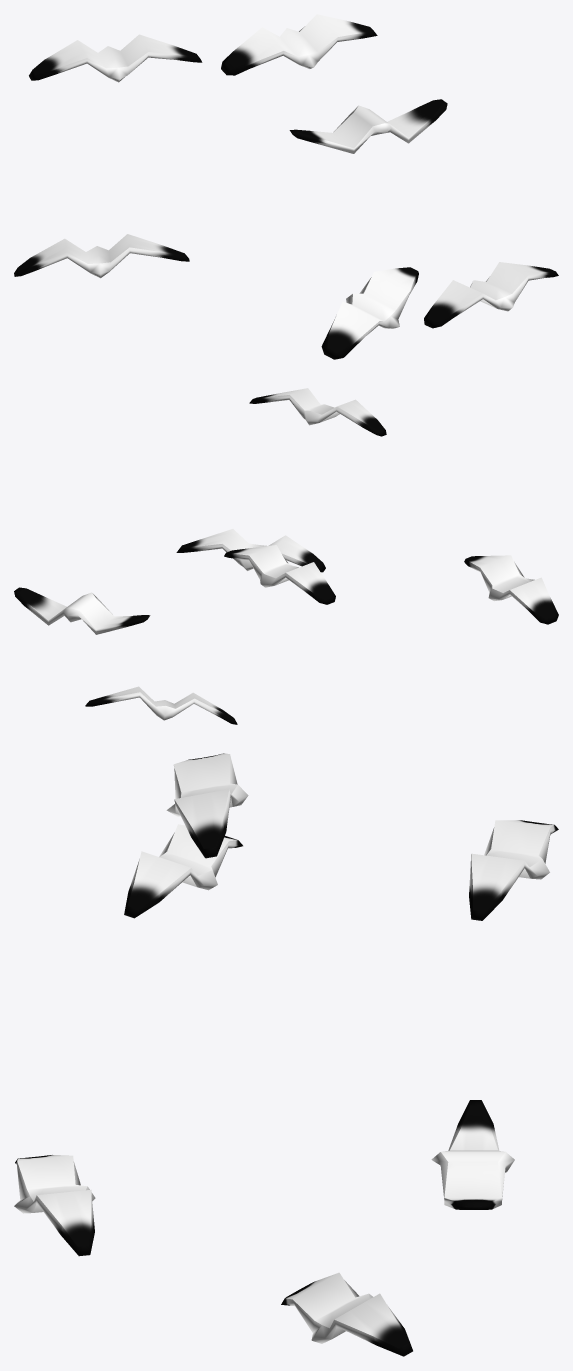
File: bird_flock_2.gltf
3 renders of one model, top to bottom at view 1: azimuth 30°, elevation 25°; view 2: azimuth 150°, elevation 25°; view 3: azimuth 270°, elevation 25°, orthographic. The views are drawn at different scales.
Parts seen in each view (by area): view 1: pCube1.006, pCube1.005, pCube1.001, pCube1.003, pCube1.002, pCube1.004; view 2: pCube1.004, pCube1.001, pCube1.002, pCube1.005, pCube1.003, pCube1.006; view 3: pCube1.002, pCube1.006, pCube1.001, pCube1.003, pCube1.005, pCube1.004.
Boxes of the visible parts, bbox=[...] form: pCube1.006: bbox=[321, 267, 418, 359]; pCube1.005: bbox=[221, 14, 377, 75]; pCube1.001: bbox=[29, 34, 202, 82]; pCube1.003: bbox=[424, 262, 558, 328]; pCube1.002: bbox=[289, 99, 447, 153]; pCube1.004: bbox=[14, 234, 189, 278]; pCube1.004: bbox=[464, 555, 558, 624]; pCube1.001: bbox=[224, 545, 335, 604]; pCube1.002: bbox=[14, 587, 150, 634]; pCube1.005: bbox=[249, 388, 386, 436]; pCube1.003: bbox=[176, 529, 325, 572]; pCube1.006: bbox=[85, 686, 237, 724]; pCube1.002: bbox=[431, 1100, 514, 1209]; pCube1.006: bbox=[281, 1272, 412, 1356]; pCube1.001: bbox=[469, 820, 558, 920]; pCube1.003: bbox=[14, 1155, 95, 1256]; pCube1.005: bbox=[166, 753, 248, 858]; pCube1.004: bbox=[124, 824, 242, 918].
Bounding box in the file's own units: 0.4959 × 0.3347 × 0.3389.
6 materials, 6 textured.
